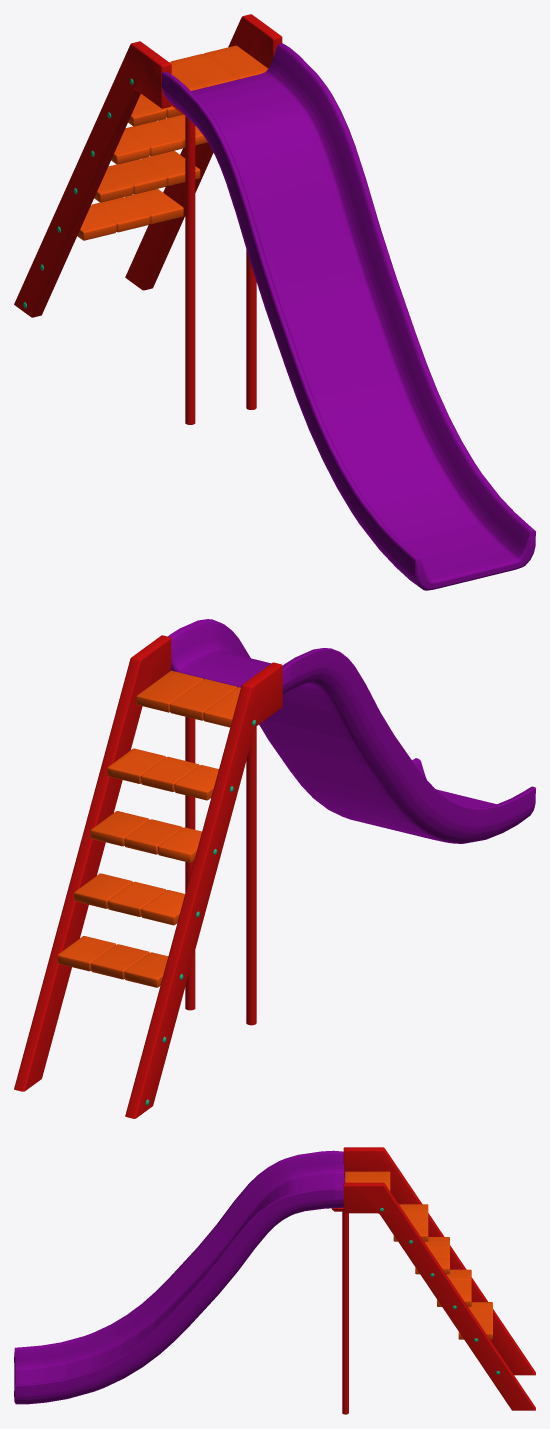
The model's file is huahauti.fbx.
The picture shows the model from 3 angles, top to bottom: view 1: azimuth 30°, elevation 25°; view 2: azimuth 150°, elevation 25°; view 3: azimuth 270°, elevation 25°; orthographic projection. The views are drawn at different scales.
Visible parts, largest first — view 1: huati1; view 2: huati1; view 3: huati1.
Part boxes in pixels (x1=…): huati1: x1=14, y1=14, x2=535, y2=590; huati1: x1=14, y1=619, x2=535, y2=1118; huati1: x1=14, y1=1147, x2=535, y2=1414.
Bounding box in the file's own units: 12.39 × 34.66 × 69.14.
1 material, 1 textured.
